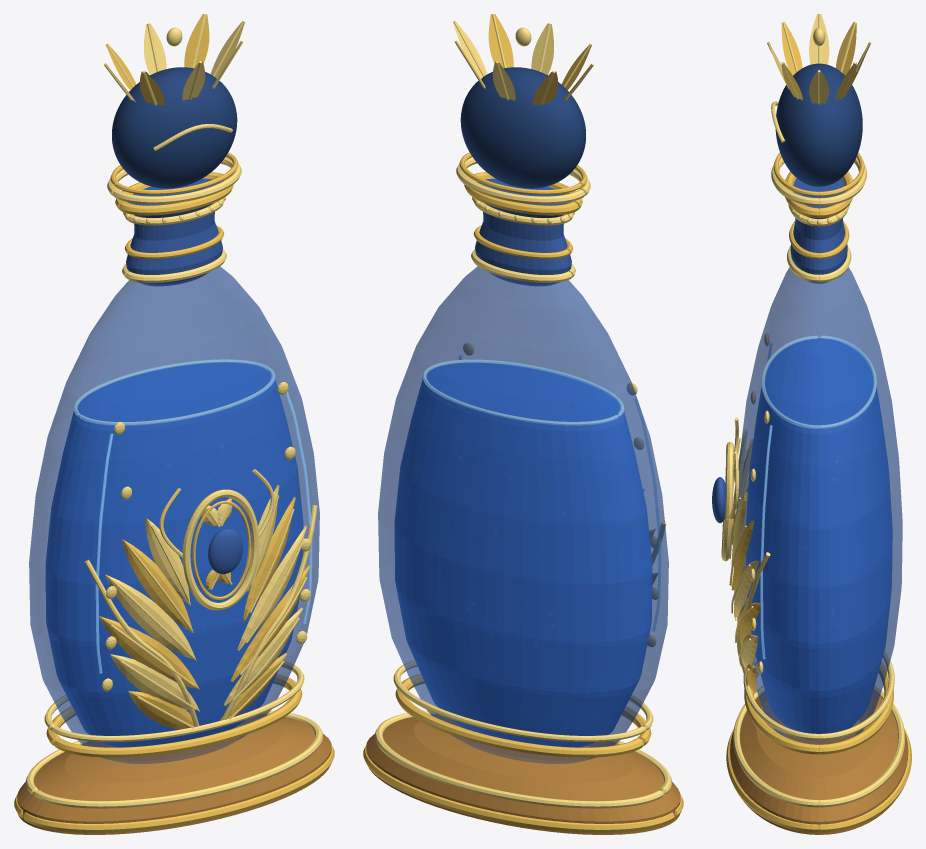
File: bottle-02.glb
The picture shows the model from 3 angles, left to right: view 1: azimuth 30°, elevation 25°; view 2: azimuth 150°, elevation 25°; view 3: azimuth 270°, elevation 25°; orthographic projection. The views are drawn at different scales.
Parts seen in each view (by area): view 1: 00_Midnight sapphire translucent glass, 01_Visible rich sapphire perfume essence, 05_Champagne gold highlights, 04_Polished 24K royal gold, 03_Antique gold shadow enamel, 07_Deep blue cap enamel, 06_Sapphire enamel inlay, 02_Sapphire liquid meniscus highlight, 08_Cool blue glass reflections; view 2: 00_Midnight sapphire translucent glass, 01_Visible rich sapphire perfume essence, 03_Antique gold shadow enamel, 05_Champagne gold highlights, 04_Polished 24K royal gold, 07_Deep blue cap enamel, 06_Sapphire enamel inlay, 02_Sapphire liquid meniscus highlight, 08_Cool blue glass reflections; view 3: 00_Midnight sapphire translucent glass, 01_Visible rich sapphire perfume essence, 05_Champagne gold highlights, 03_Antique gold shadow enamel, 04_Polished 24K royal gold, 07_Deep blue cap enamel, 06_Sapphire enamel inlay, 02_Sapphire liquid meniscus highlight, 08_Cool blue glass reflections.
Boxes of the visible parts, bbox=[...] form: 00_Midnight sapphire translucent glass: bbox=[29, 266, 319, 763]; 01_Visible rich sapphire perfume essence: bbox=[45, 362, 303, 747]; 05_Champagne gold highlights: bbox=[26, 14, 322, 808]; 04_Polished 24K royal gold: bbox=[14, 14, 334, 832]; 03_Antique gold shadow enamel: bbox=[17, 714, 331, 834]; 07_Deep blue cap enamel: bbox=[112, 67, 237, 188]; 06_Sapphire enamel inlay: bbox=[126, 178, 242, 574]; 02_Sapphire liquid meniscus highlight: bbox=[73, 359, 275, 425]; 08_Cool blue glass reflections: bbox=[95, 391, 312, 673]; 00_Midnight sapphire translucent glass: bbox=[378, 266, 668, 763]; 01_Visible rich sapphire perfume essence: bbox=[394, 362, 652, 747]; 03_Antique gold shadow enamel: bbox=[366, 714, 680, 834]; 05_Champagne gold highlights: bbox=[375, 14, 671, 808]; 04_Polished 24K royal gold: bbox=[363, 14, 683, 832]; 07_Deep blue cap enamel: bbox=[460, 67, 585, 188]; 06_Sapphire enamel inlay: bbox=[475, 178, 571, 286]; 02_Sapphire liquid meniscus highlight: bbox=[422, 359, 624, 425]; 08_Cool blue glass reflections: bbox=[459, 355, 661, 631]; 00_Midnight sapphire translucent glass: bbox=[736, 267, 902, 744]; 01_Visible rich sapphire perfume essence: bbox=[746, 338, 892, 733]; 05_Champagne gold highlights: bbox=[721, 14, 905, 807]; 03_Antique gold shadow enamel: bbox=[730, 691, 908, 834]; 04_Polished 24K royal gold: bbox=[723, 22, 911, 832]; 07_Deep blue cap enamel: bbox=[775, 63, 862, 186]; 06_Sapphire enamel inlay: bbox=[712, 178, 847, 523]; 02_Sapphire liquid meniscus highlight: bbox=[761, 335, 876, 428]; 08_Cool blue glass reflections: bbox=[760, 342, 772, 659].
Size of the model in its own units: 1.07 by 2.56 by 0.6259.
